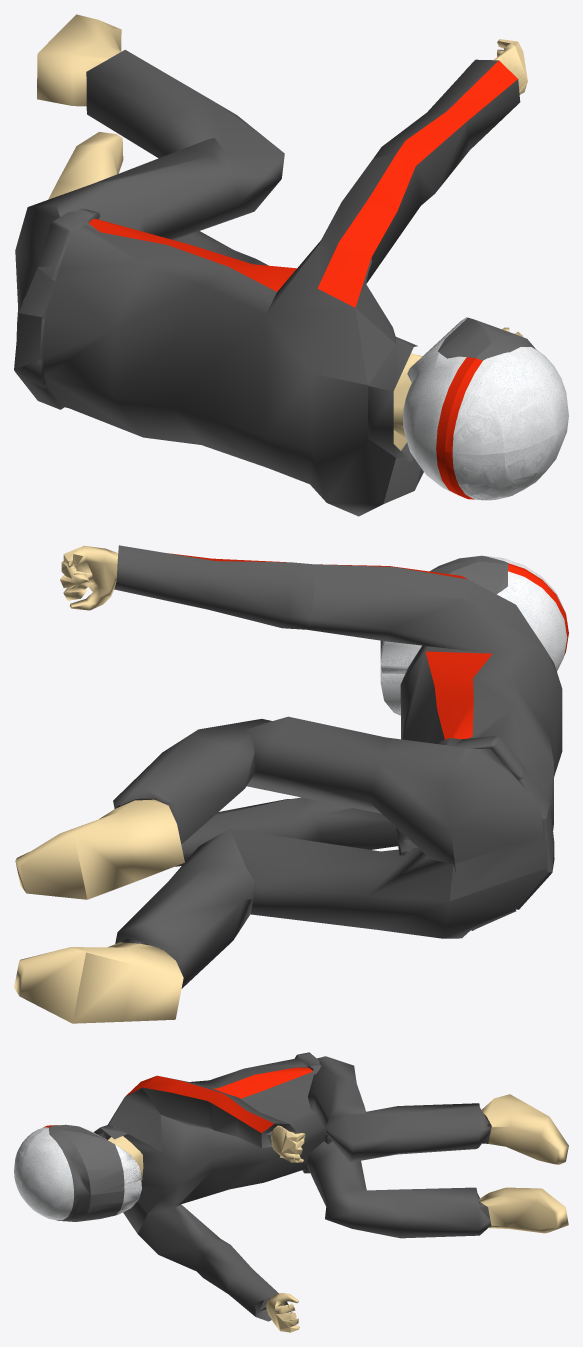
The model's file is rider_position_3.dae.
3 renders of one model, top to bottom at view 1: azimuth 30°, elevation 25°; view 2: azimuth 150°, elevation 25°; view 3: azimuth 270°, elevation 25°, orthographic. The views are drawn at different scales.
Parts seen in each view (by area): view 1: coords_ME_ID33_MA_material_2, coords_ME_ID109_MA_material_4, coords_ME_ID213_MA_material_6, coords_ME_ID135_MA_material, coords_ME_ID71_MA_material_4, coords_ME_ID109_MA_material_5, coords_ME_ID85_MA_material_7, coords_ME_ID25_MA_material, coords_ME_ID171_MA_material_6, coords_ME_ID101_MA_material_9, coords_ME_ID93_MA_material_8, coords_ME_ID71_MA_material_5 (+2 smaller); view 2: coords_ME_ID33_MA_material_2, coords_ME_ID25_MA_material, coords_ME_ID135_MA_material, coords_ME_ID71_MA_material_4, coords_ME_ID171_MA_material_6, coords_ME_ID3_MA_material, coords_ME_ID93_MA_material_8, coords_ME_ID71_MA_material_5, coords_ME_ID101_MA_material_9; view 3: coords_ME_ID33_MA_material_2, coords_ME_ID109_MA_material_4, coords_ME_ID135_MA_material, coords_ME_ID25_MA_material, coords_ME_ID121_MA_material_10, coords_ME_ID213_MA_material_6, coords_ME_ID93_MA_material_8, coords_ME_ID171_MA_material_6, coords_ME_ID109_MA_material_5, coords_ME_ID71_MA_material_4, coords_ME_ID11_MA_material, coords_ME_ID3_MA_material (+1 smaller).
Boxes of the visible parts, x1,y1,x2,y2 form: coords_ME_ID33_MA_material_2: [14, 49, 520, 516]; coords_ME_ID109_MA_material_4: [452, 347, 568, 500]; coords_ME_ID213_MA_material_6: [317, 60, 517, 307]; coords_ME_ID135_MA_material: [37, 14, 121, 106]; coords_ME_ID71_MA_material_4: [403, 317, 467, 494]; coords_ME_ID109_MA_material_5: [453, 347, 568, 500]; coords_ME_ID85_MA_material_7: [367, 337, 417, 461]; coords_ME_ID25_MA_material: [48, 132, 123, 199]; coords_ME_ID171_MA_material_6: [88, 219, 296, 291]; coords_ME_ID101_MA_material_9: [436, 357, 482, 499]; coords_ME_ID93_MA_material_8: [438, 317, 537, 360]; coords_ME_ID71_MA_material_5: [403, 319, 465, 493]; coords_ME_ID33_MA_material_2: [113, 545, 562, 988]; coords_ME_ID25_MA_material: [14, 942, 183, 1023]; coords_ME_ID135_MA_material: [15, 799, 184, 899]; coords_ME_ID71_MA_material_4: [380, 571, 567, 715]; coords_ME_ID171_MA_material_6: [425, 651, 492, 739]; coords_ME_ID3_MA_material: [60, 545, 118, 610]; coords_ME_ID93_MA_material_8: [431, 556, 508, 594]; coords_ME_ID71_MA_material_5: [380, 573, 566, 712]; coords_ME_ID101_MA_material_9: [508, 563, 568, 654]; coords_ME_ID33_MA_material_2: [103, 1052, 491, 1321]; coords_ME_ID109_MA_material_4: [14, 1127, 73, 1220]; coords_ME_ID135_MA_material: [481, 1094, 568, 1164]; coords_ME_ID25_MA_material: [479, 1187, 568, 1233]; coords_ME_ID121_MA_material_10: [62, 1130, 124, 1221]; coords_ME_ID213_MA_material_6: [125, 1075, 274, 1132]; coords_ME_ID93_MA_material_8: [48, 1124, 111, 1221]; coords_ME_ID171_MA_material_6: [213, 1067, 312, 1098]; coords_ME_ID109_MA_material_5: [14, 1127, 73, 1219]; coords_ME_ID71_MA_material_4: [54, 1125, 141, 1215]; coords_ME_ID11_MA_material: [266, 1293, 299, 1332]; coords_ME_ID3_MA_material: [271, 1125, 305, 1162].
Size of the model in its own units: 9.26 by 5.95 by 14.94.
